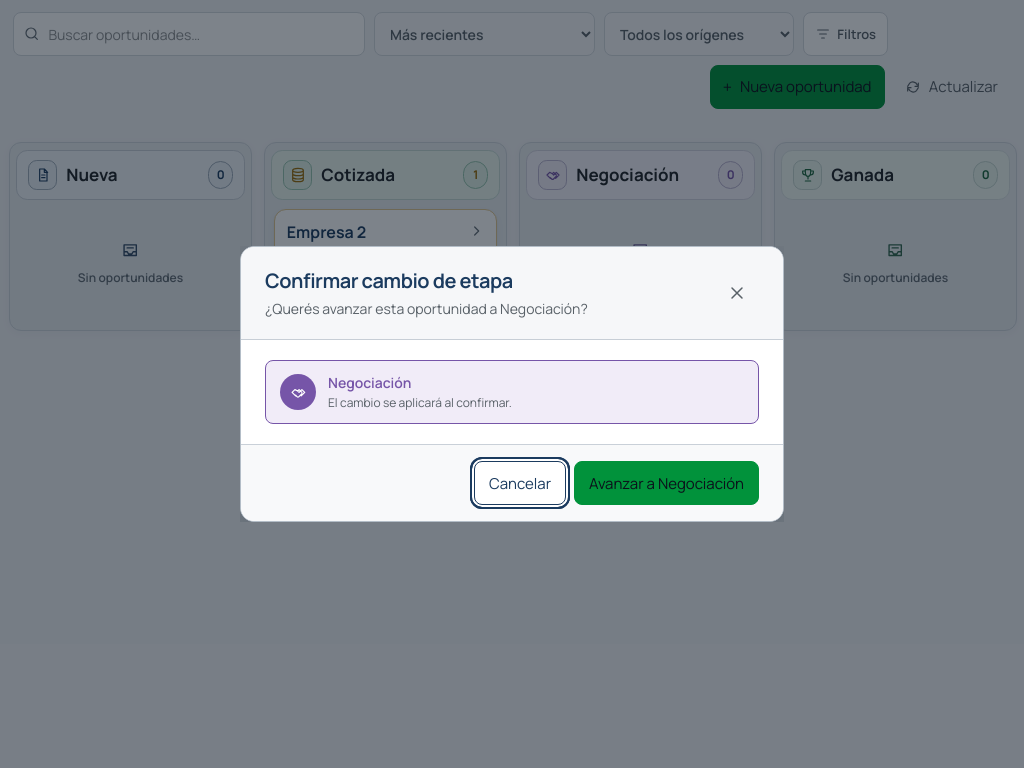
Test: PipelinePage › cancels a pending Pipeline transition without mutating the original stage
Expected: the heading "Nueva" is shown, [66,163,118,187]
Click the button "Cancelar" at (520, 483), box [474,461,566,505]
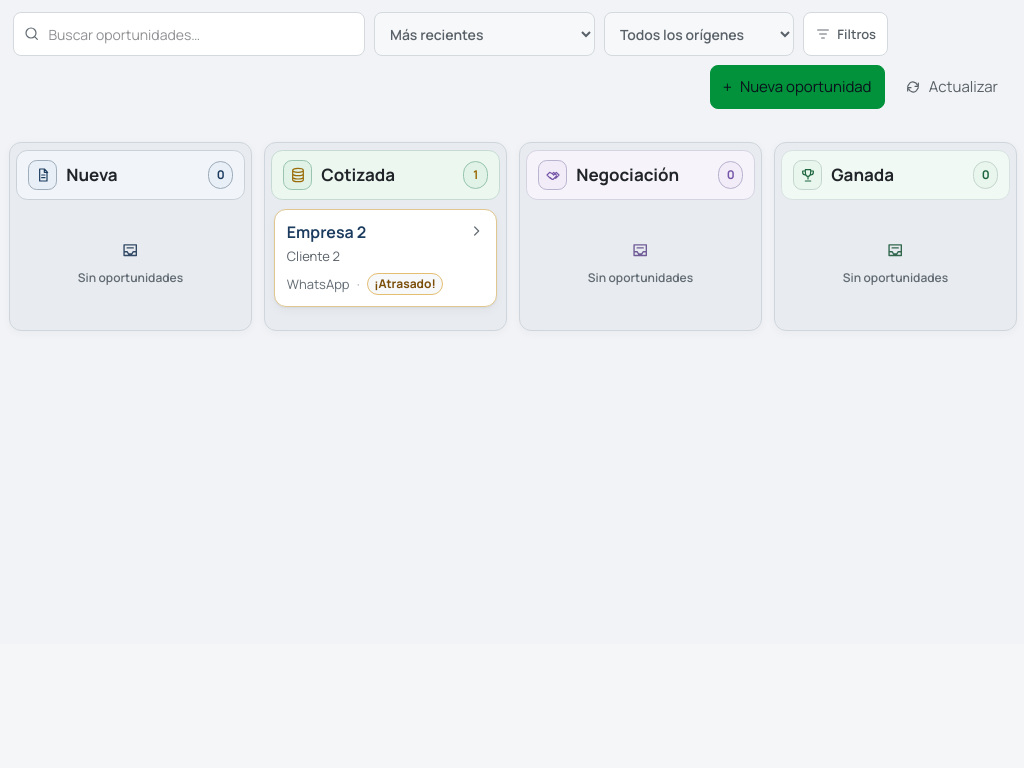
Expected: the text "Empresa 2" is shown, [287,221,366,243]
Now the heading "Confirmar cambio de etapa" is gone
